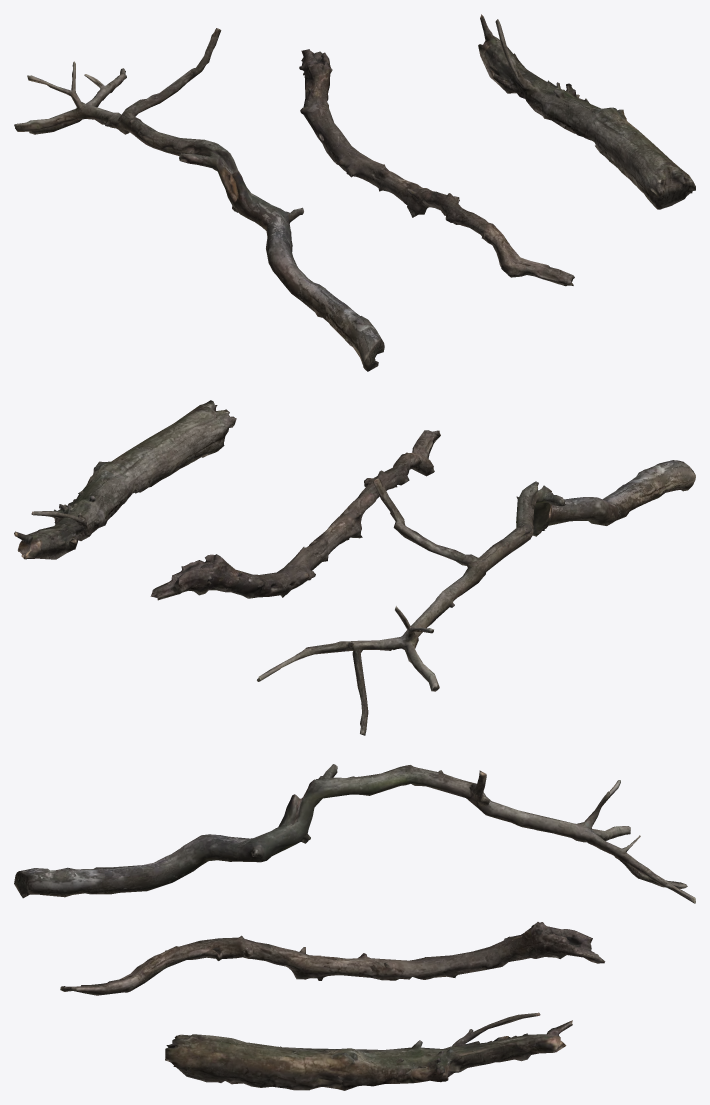
File: dry_branches_medium_01.glb
3 renders of one model, top to bottom at view 1: azimuth 30°, elevation 25°; view 2: azimuth 150°, elevation 25°; view 3: azimuth 270°, elevation 25°, orthographic. The views are drawn at different scales.
Parts seen in each view (by area): view 1: dry_branches_medium_01_c; view 2: dry_branches_medium_01_c; view 3: dry_branches_medium_01_c.
Boxes of the visible parts, x1=… form: dry_branches_medium_01_c: x1=14, y1=14, x2=695, y2=371; dry_branches_medium_01_c: x1=14, y1=400, x2=695, y2=735; dry_branches_medium_01_c: x1=14, y1=764, x2=695, y2=1090.
Bounding box in the file's own units: 1.06 × 0.3401 × 1.3.
Materials: 1 (1 with a texture image).
